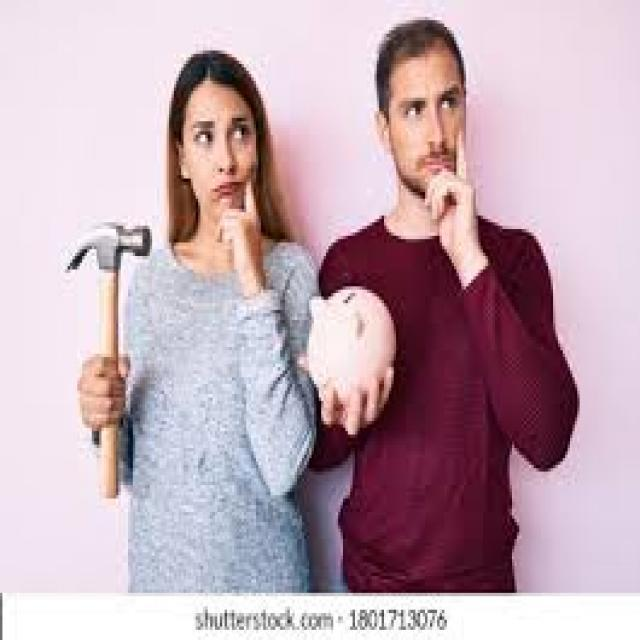hammer: (56, 215, 154, 512)
